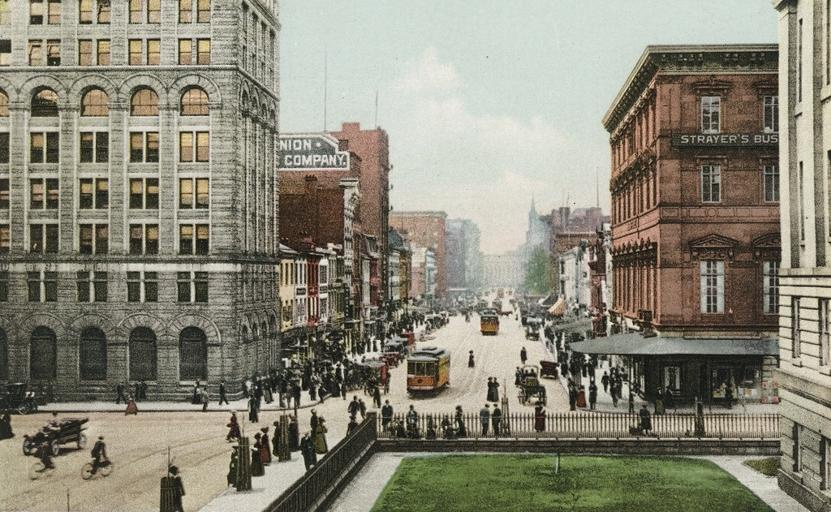non-vehicle: (24, 456, 56, 483), (78, 456, 112, 481)
